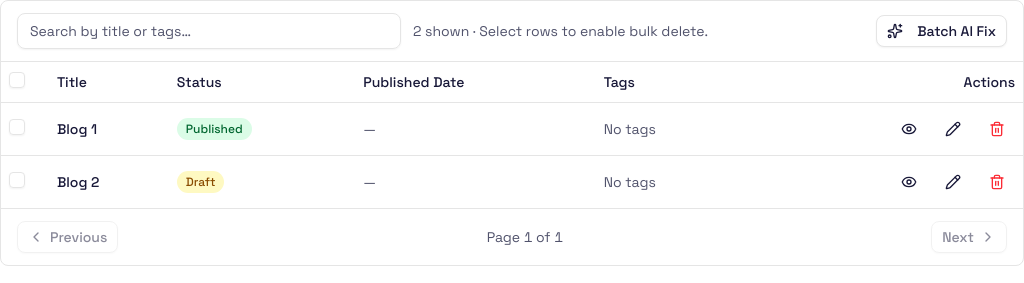
admin bulk selection tables › shows blog bulk delete button when rows are selected
This screenshot has width=1024, height=283.
Check: the text "Delete Selected" is not shown
Click the checkbox named "Select Blog 1" at [17, 126], box x1=9 y1=118 x2=25 y2=134
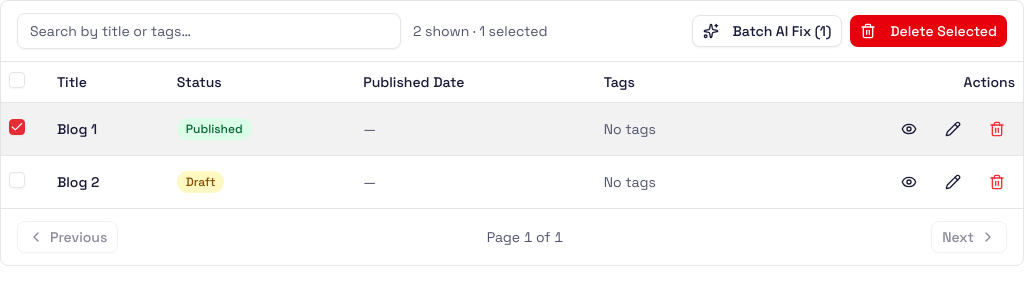
Check: the button "Delete Selected" is shown, box x1=850 y1=15 x2=1007 y2=47
